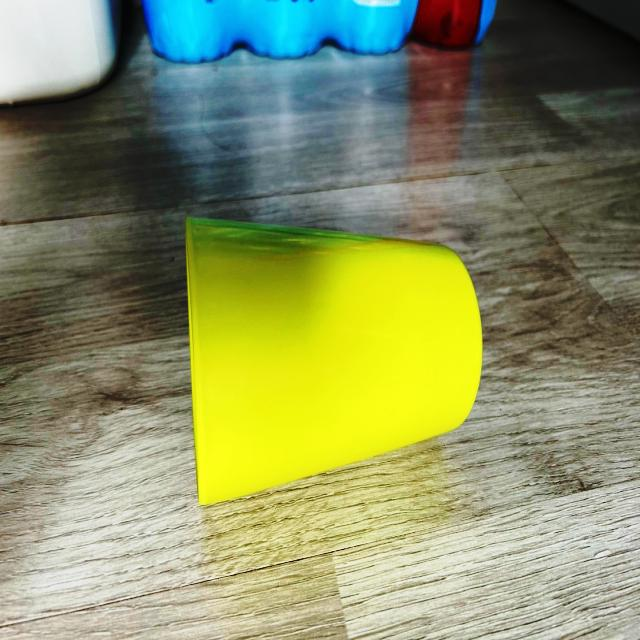WaterGlass: (186, 219, 482, 504)
